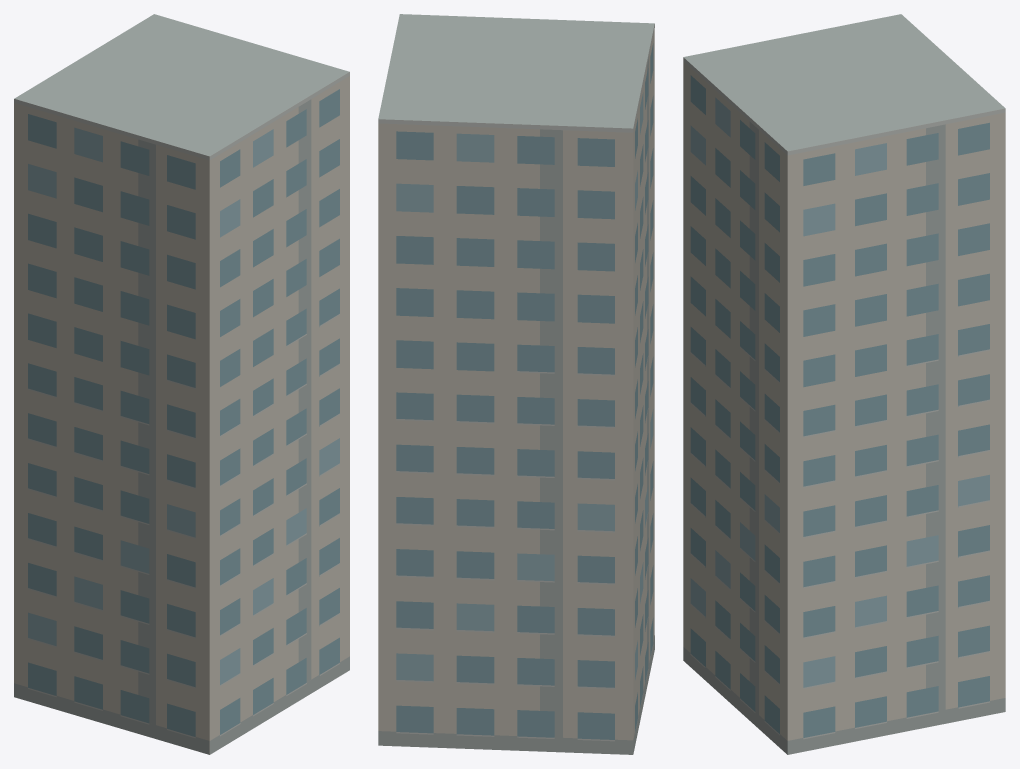
Rendered from residential-6fb6a1d2-3dd1-434e-a4b8-fe0512b59fe0.glb.
3 renders of one model, left to right at view 1: azimuth 30°, elevation 25°; view 2: azimuth 150°, elevation 25°; view 3: azimuth 270°, elevation 25°, orthographic. The views are drawn at different scales.
Parts seen in each view (by area): view 1: residential-6fb6a1d2-3dd1-434e-a4b8-fe0512b59fe0.tmp; view 2: residential-6fb6a1d2-3dd1-434e-a4b8-fe0512b59fe0.tmp; view 3: residential-6fb6a1d2-3dd1-434e-a4b8-fe0512b59fe0.tmp.
Part boxes in pixels (x1,y1,x2,y2): residential-6fb6a1d2-3dd1-434e-a4b8-fe0512b59fe0.tmp: (14,14,349,754); residential-6fb6a1d2-3dd1-434e-a4b8-fe0512b59fe0.tmp: (378,14,654,754); residential-6fb6a1d2-3dd1-434e-a4b8-fe0512b59fe0.tmp: (683,14,1005,754).
Size of the model in its own units: 17.6 by 36 by 17.44.
